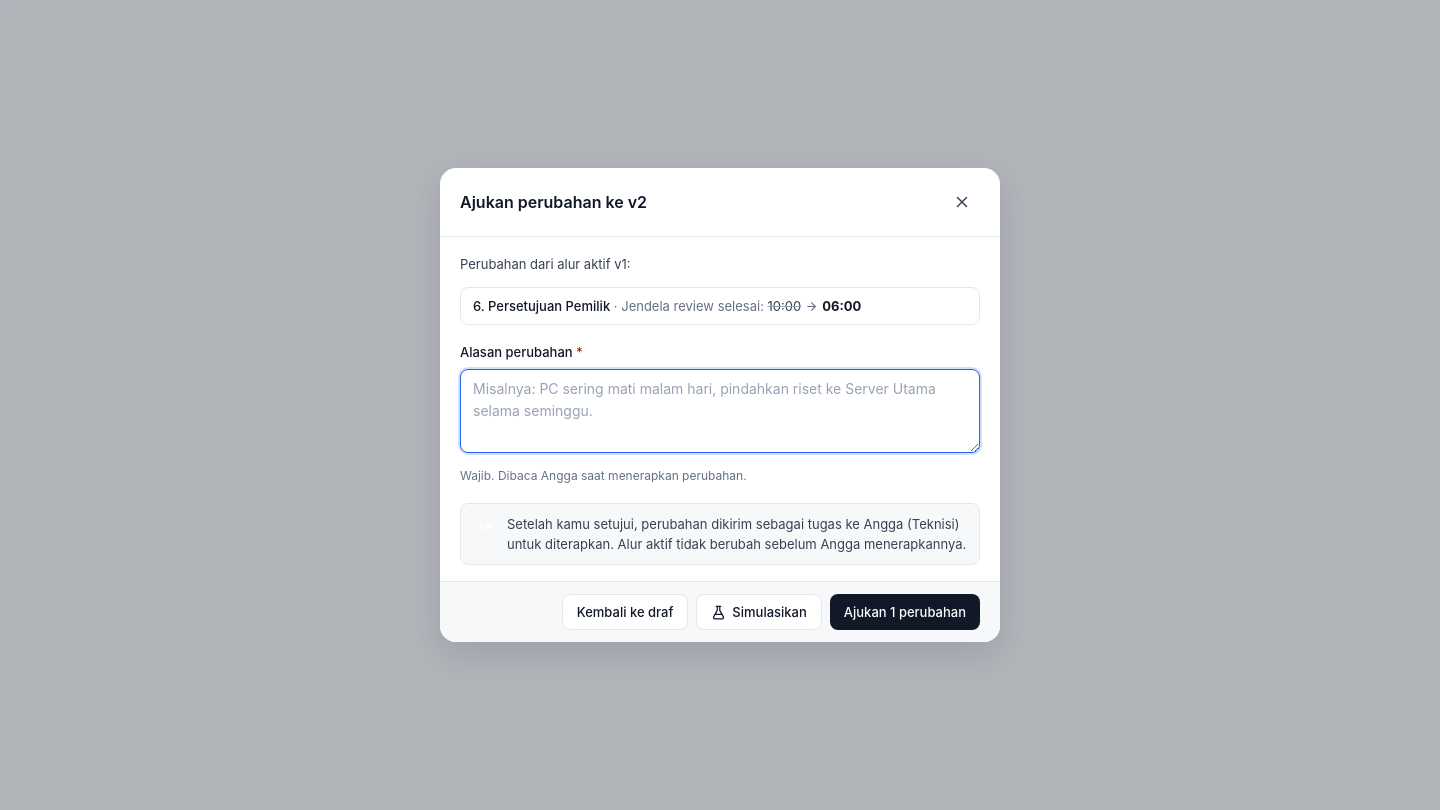
it: Alur Kerja — simulasi › menampilkan masalah dari simulasi tanpa mengajukan proposal
Click the button "Simulasikan": [759, 612] box [696,594,822,630]
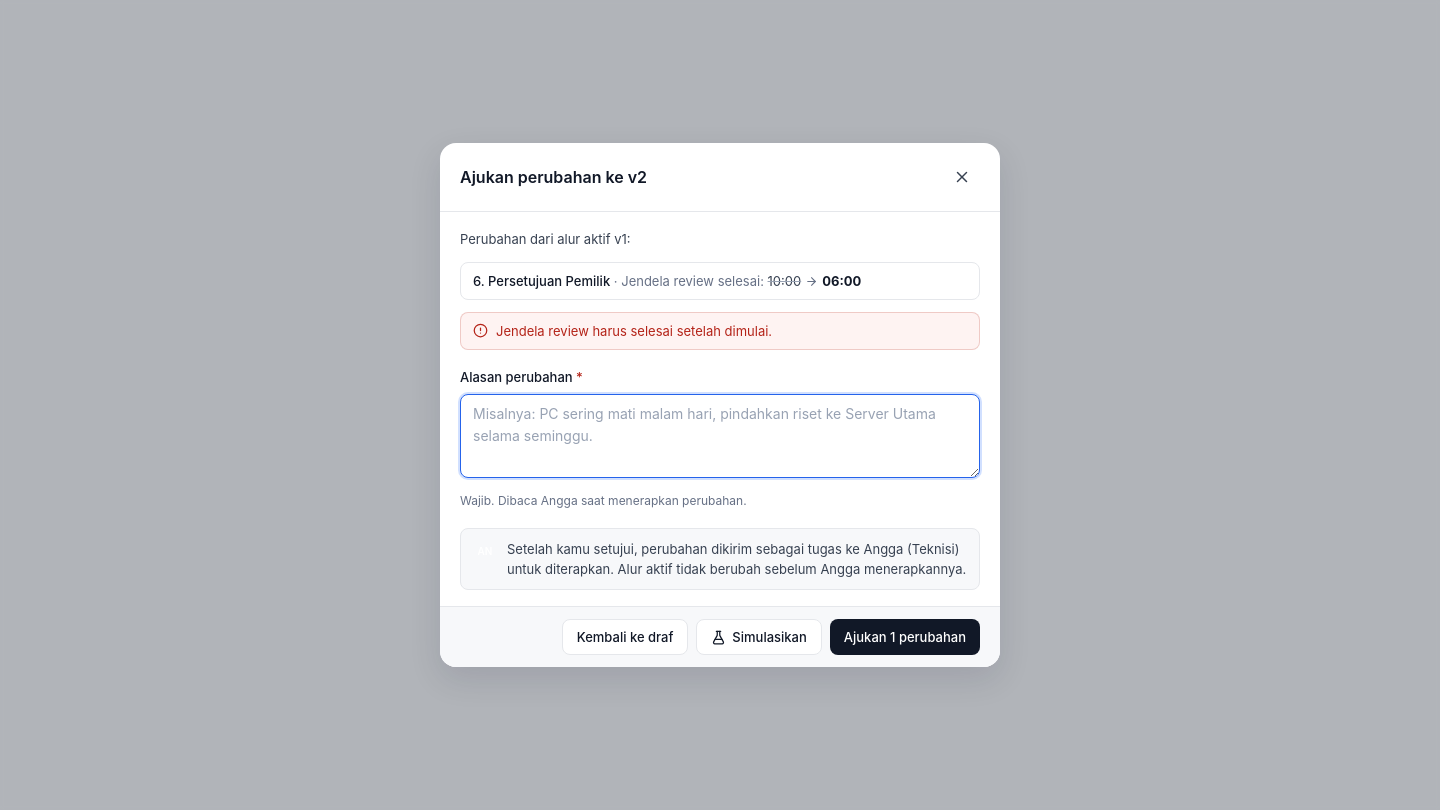
Expected: the text "Jendela review harus selesai setelah dimulai." is shown, [496,321,772,341]
